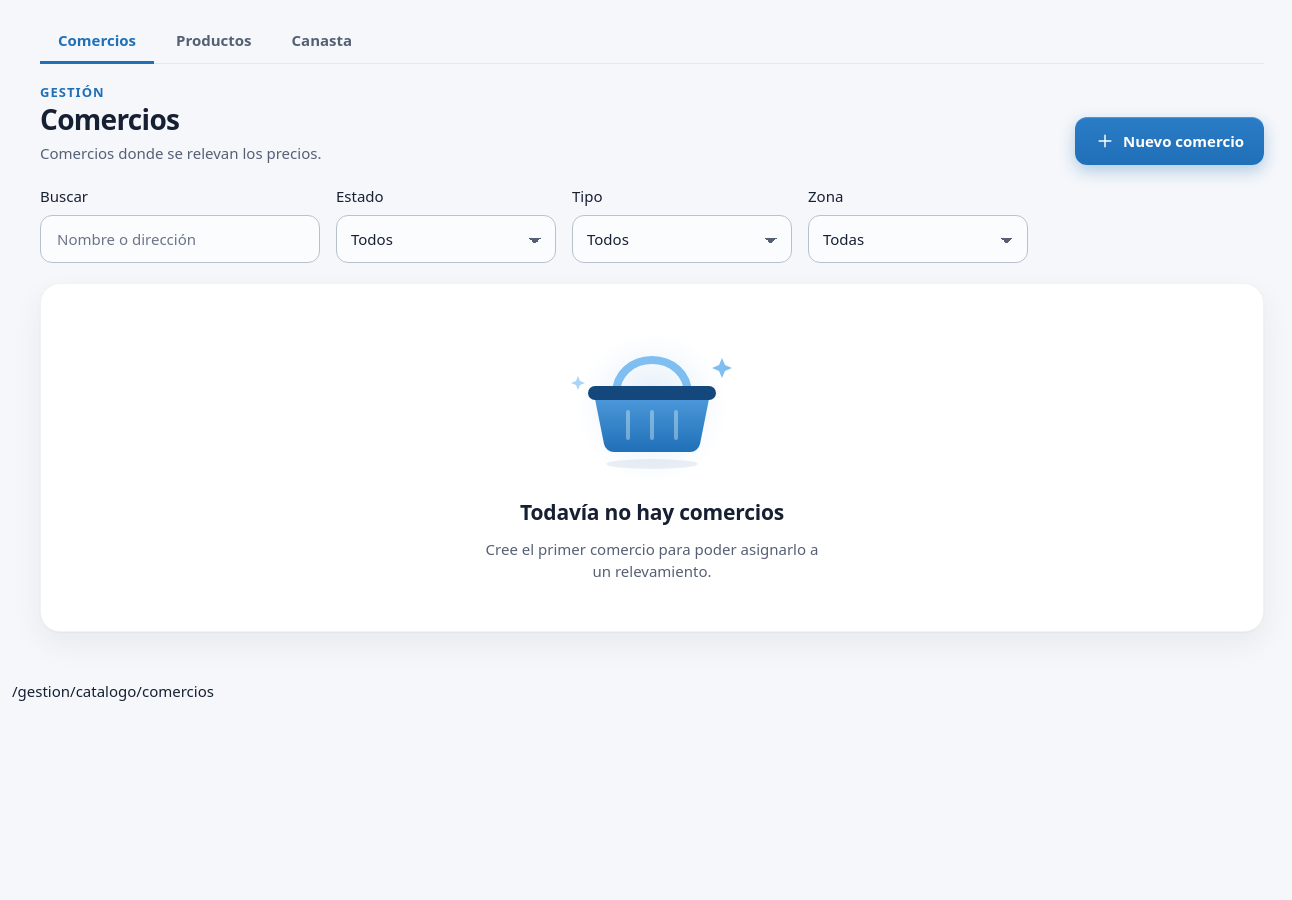
Test: CatalogoPage › navigates between tabs with links (back and reload keep the tab)
Click the link "Productos" at (214, 40), box [176,30,252,50]
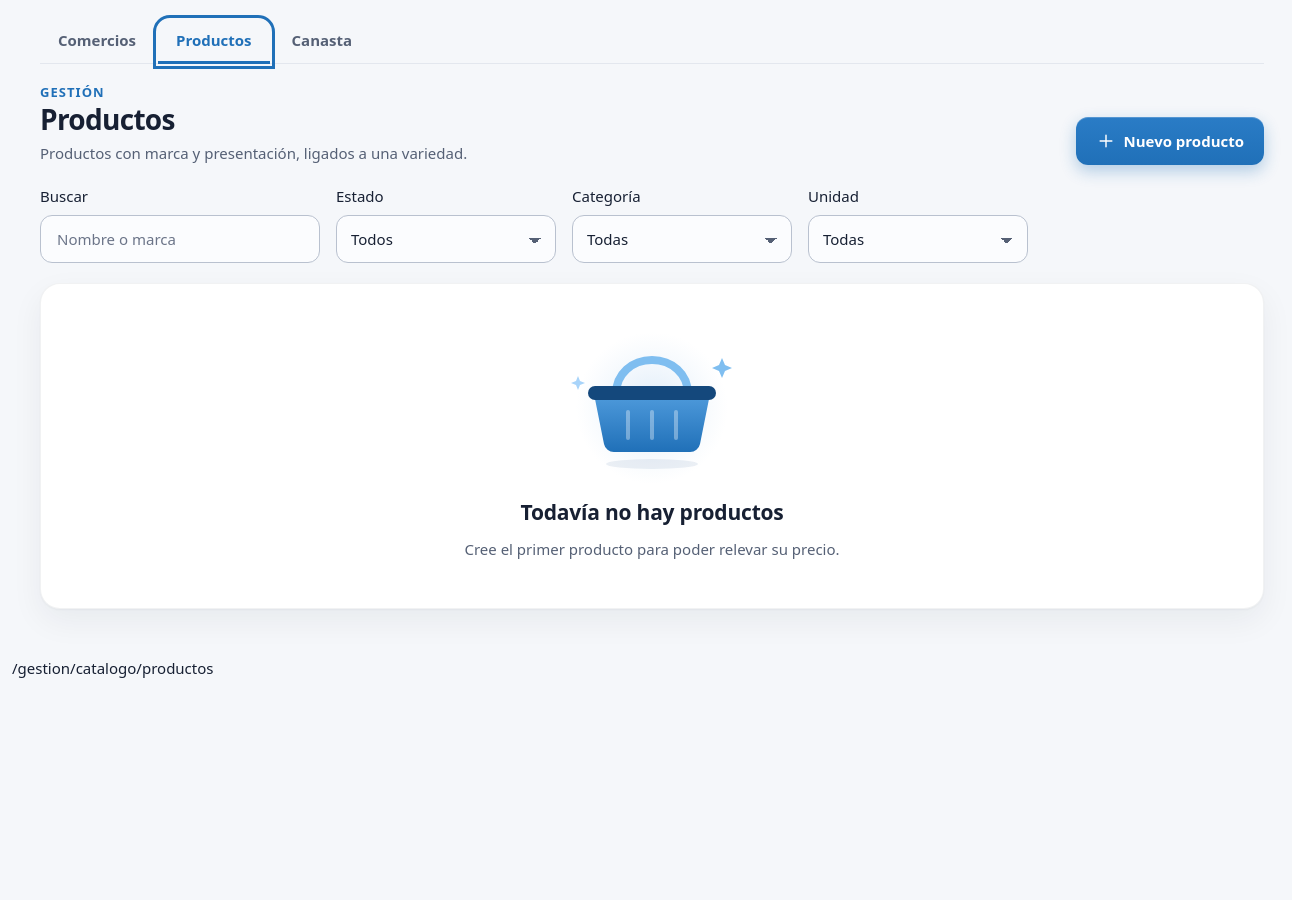
Expected: the heading "Productos" is shown, [40,100,175,138]
Expected: the text named "ubicación" reads "/gestion/catalogo/productos", [12,658,214,678]
